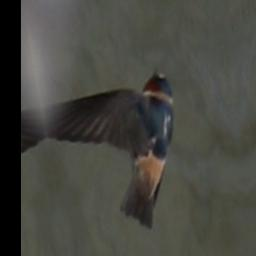Swallow: (39, 64, 199, 248)
